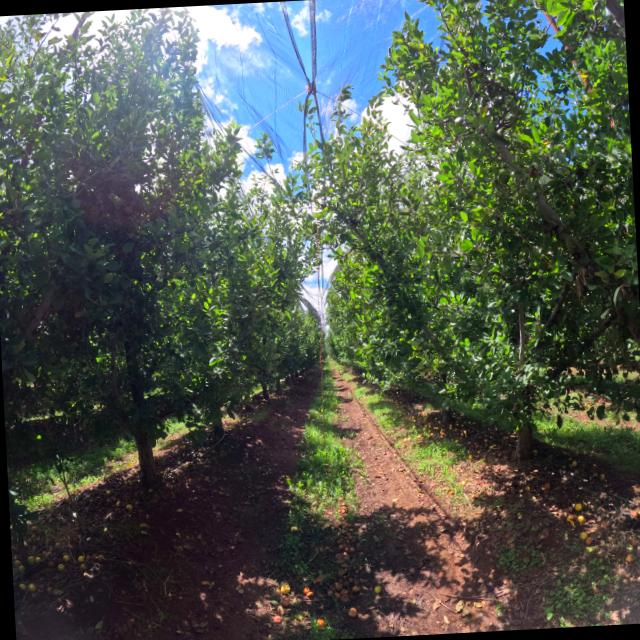-FireBlight-: (574, 268, 591, 299)
